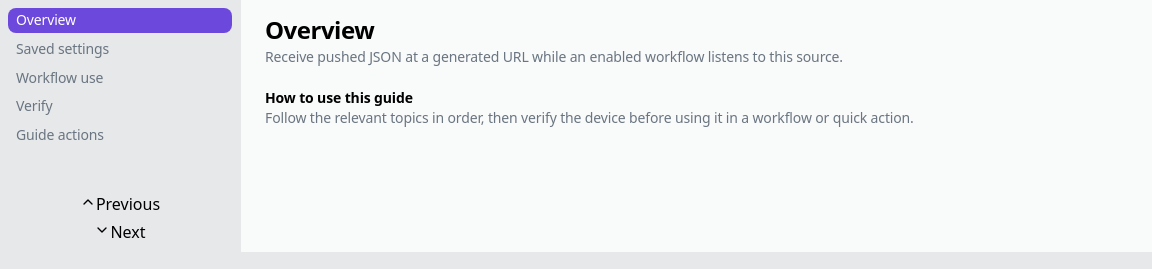
Test case: StandardDeviceSetupGuide › shows operational safety guidance where device output or access has side effects
The width and height of the screenshot is (1152, 269).
Click the button "Workflow use" at (120,78), box [8,66,232,90]
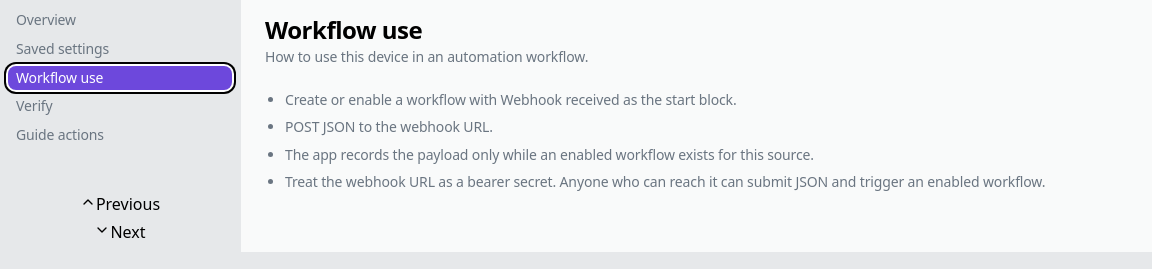
Expected: the list item "Treat the webhook URL as a bearer secret" is shown, [285,172,1045,191]
